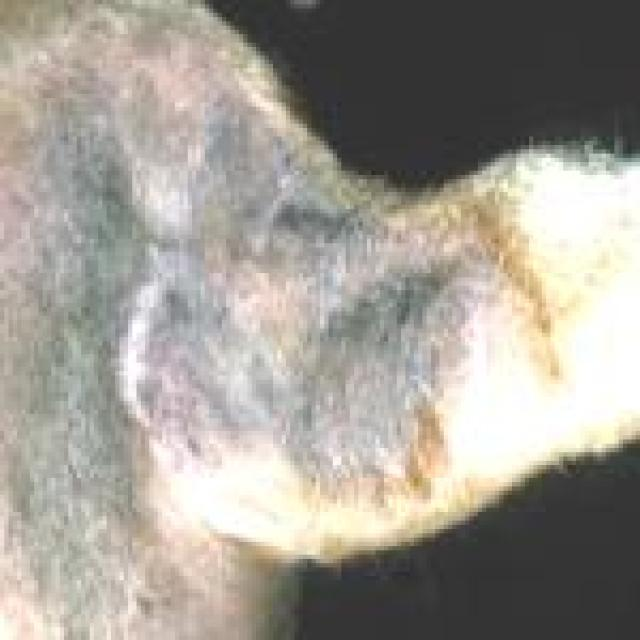fungal infection: (194, 226, 330, 341)
